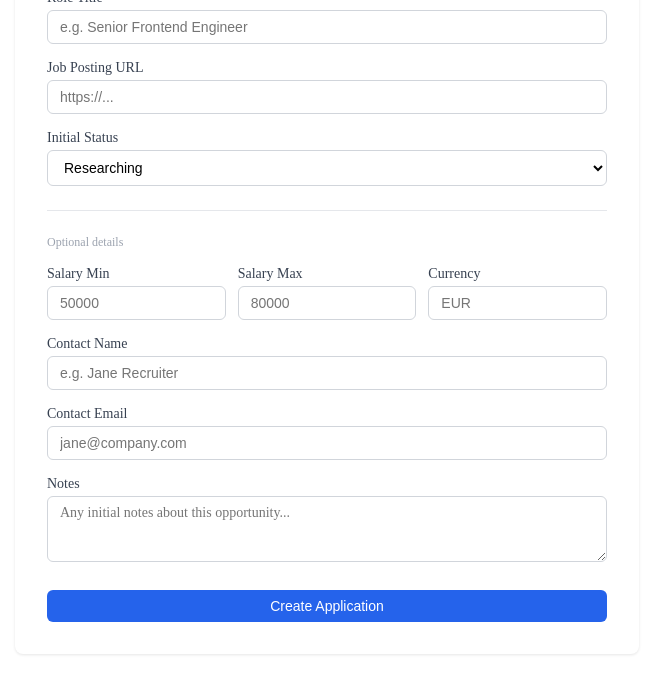
Test: NewApplicationPage › shows validation errors when submitting empty form
(page scrolled)
Click the button "Create Application": (327, 606) top-left (47, 590), bottom-right (607, 622)
(page scrolled)
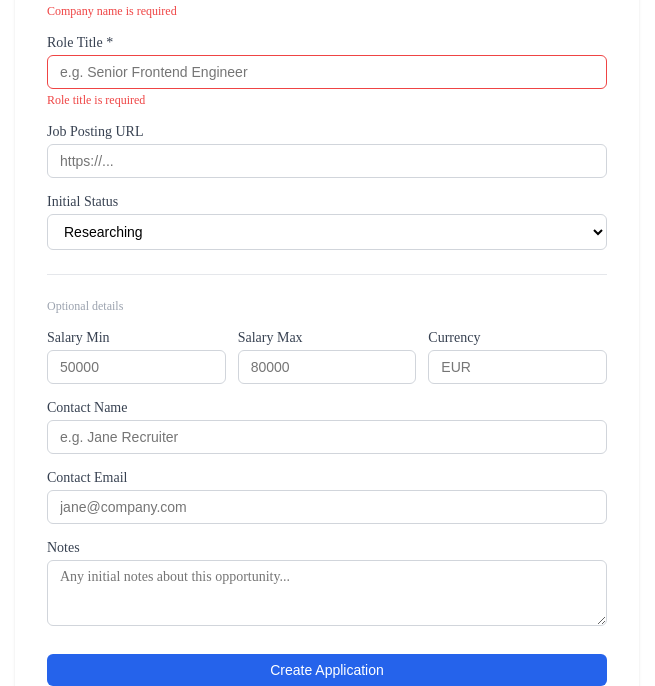
Expected: the text "Company name is required" is shown, top-left (47, 4), bottom-right (177, 18)
Expected: the text "Role title is required" is shown, top-left (47, 93), bottom-right (145, 107)
